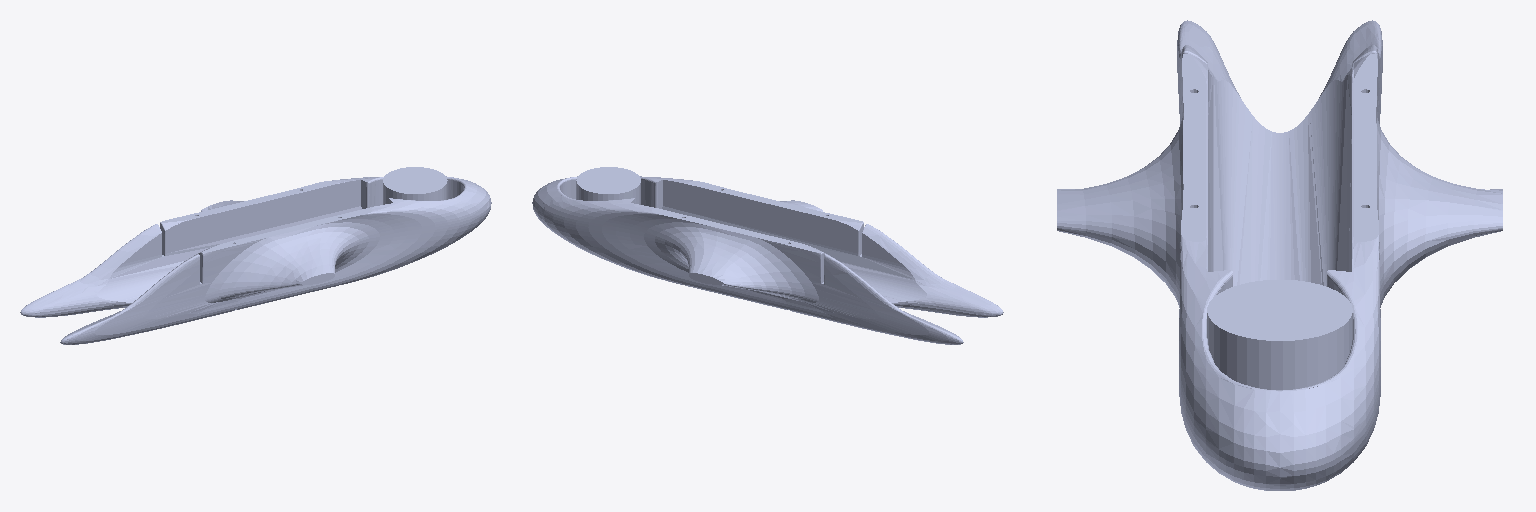
URDF robot description (nezha_beetle):
<?xml version="1.0" encoding="utf-8"?>
<!-- This URDF was automatically created by SolidWorks to URDF Exporter! Originally created by Stephen Brawner (brawner@gmail.com) 
     Commit Version: 1.6.0-4-g7f85cfe  Build Version: 1.6.7995.38578
     For more information, please see http://wiki.ros.org/sw_urdf_exporter -->
<robot
  name="nezha_beetle">
  <link
    name="base_link">
    <inertial>
      <origin
        xyz="0.0044725 -1.4316E-06 -0.020784"
        rpy="0 0 0" />
      <mass
        value="3.1545" />
      <inertia
        ixx="0.0033517"
        ixy="-7.825E-07"
        ixz="-0.00015664"
        iyy="0.0084467"
        iyz="-2.4942E-08"
        izz="0.011022" />
    </inertial>
    <visual>
      <origin
        xyz="0 0 0"
        rpy="0 0 0" />
      <geometry>
        <mesh
          filename="package://nezha_beetle/meshes/base_link.STL" />
      </geometry>
      <material
        name="">
        <color
          rgba="0.79216 0.81961 0.93333 1" />
      </material>
    </visual>
    <collision>
      <origin
        xyz="0 0 0"
        rpy="0 0 0" />
      <geometry>
        <mesh
          filename="package://nezha_beetle/meshes/base_link.STL" />
      </geometry>
    </collision>
  </link>
</robot>

--- Render facts (derived) ---
3 views of the same robot in one strip: view 1: azimuth 30°, elevation 25°; view 2: azimuth 150°, elevation 25°; view 3: azimuth 270°, elevation 25° (orthographic).
Model nezha_beetle with 1 links and 0 joints (none), rooted at base_link, posed all joints at 0.
Visible links, largest first — view 1: base_link; view 2: base_link; view 3: base_link.
Boxes of the visible links, x1,y1,x2,y2 form: base_link: [20, 167, 491, 344]; base_link: [532, 167, 1003, 344]; base_link: [1057, 20, 1502, 490].
Size in the robot's own frame: 0.3866 by 0.1488 by 0.0572 metres.
Meshes: 1 distinct files referenced, 1 mesh visuals loaded (1 binary STL).
